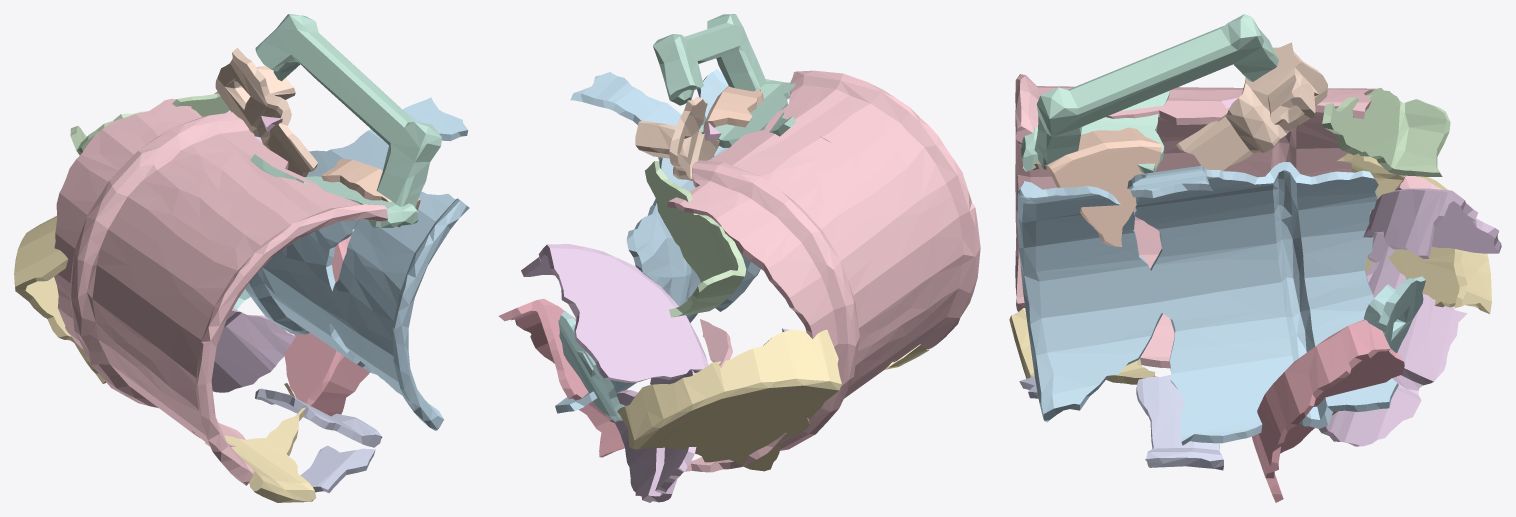
The model's file is 37f56901_colored.glb.
3 views of the same model, side by side, from view 1: azimuth 30°, elevation 25°; view 2: azimuth 150°, elevation 25°; view 3: azimuth 270°, elevation 25° (orthographic). The views are drawn at different scales.
Visible parts, largest first — view 1: world; view 2: world; view 3: world.
Part boxes in pixels (x1,y1,x2,y2): world: (14,14,469,502); world: (498,14,980,502); world: (1009,14,1501,502).
Bounding box in the file's own units: 1.86 × 2.19 × 2.14.
